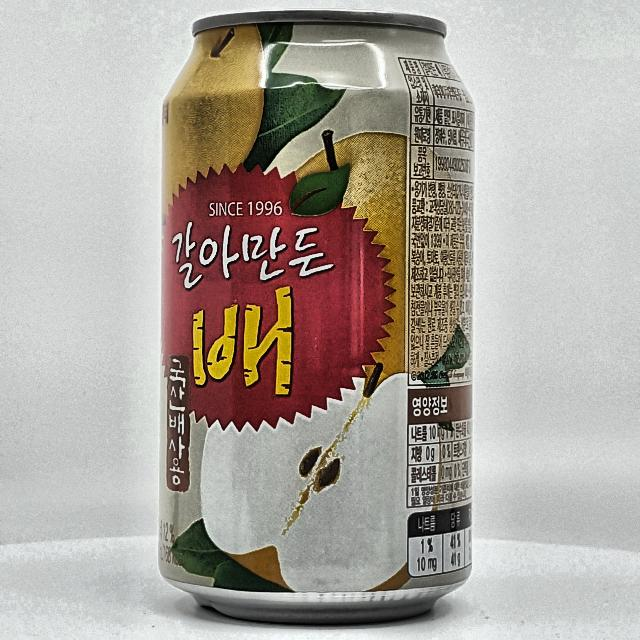galamandeunbae: (152, 4, 487, 631)
